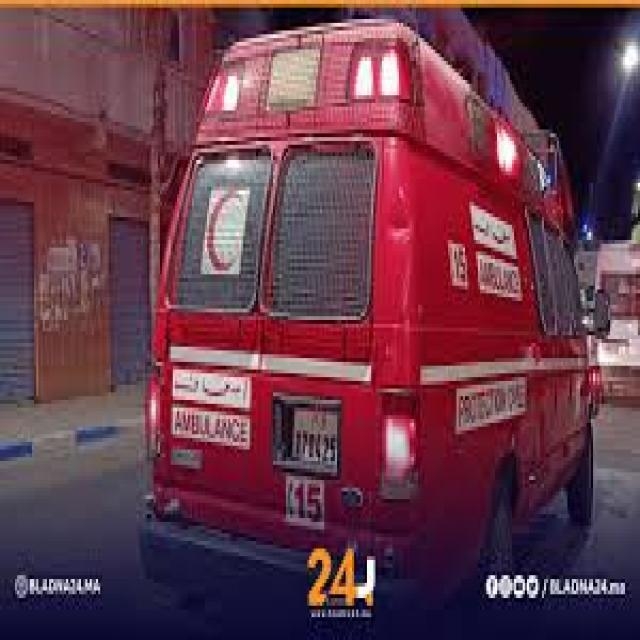ambulance: (152, 26, 605, 557)
